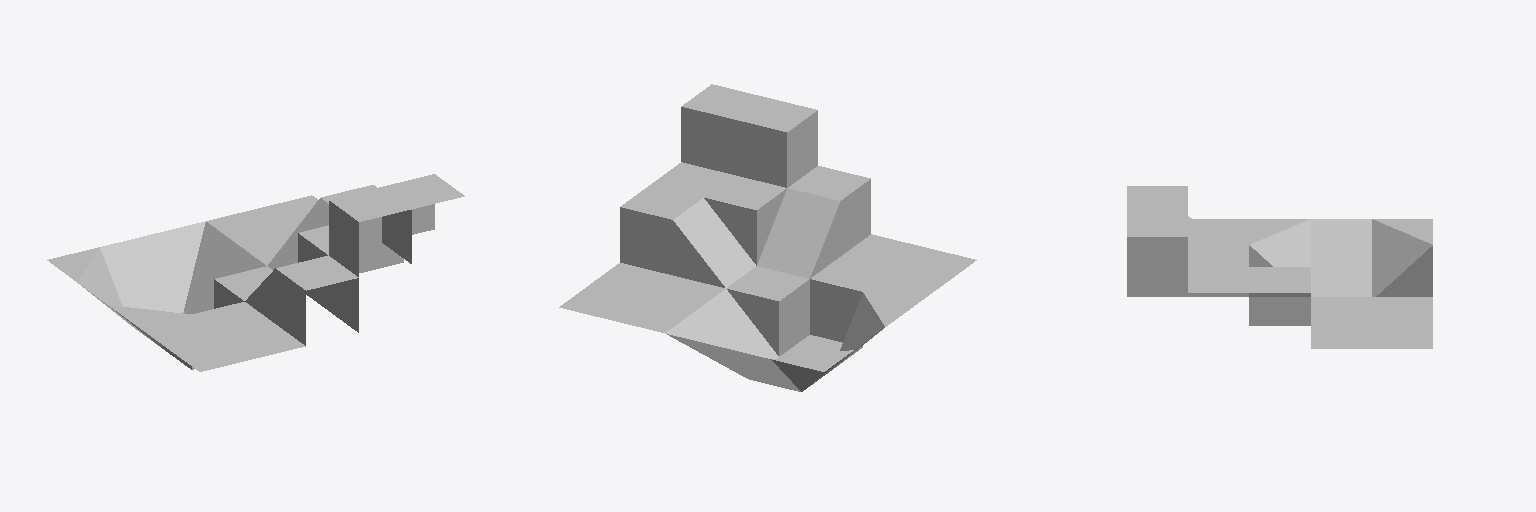
File: basic.obj
3 renders of one model, left to right at view 1: azimuth 30°, elevation 25°; view 2: azimuth 150°, elevation 25°; view 3: azimuth 270°, elevation 25°, orthographic.
Parts seen in each view (by area): view 1: Cube; view 2: Cube; view 3: Cube.
Boxes of the visible parts, box(x1,y1,x2,y2) form: Cube: box(47, 174, 464, 371); Cube: box(559, 84, 976, 391); Cube: box(1127, 186, 1432, 348).
Bounding box in the file's own units: 5 × 3 × 5.